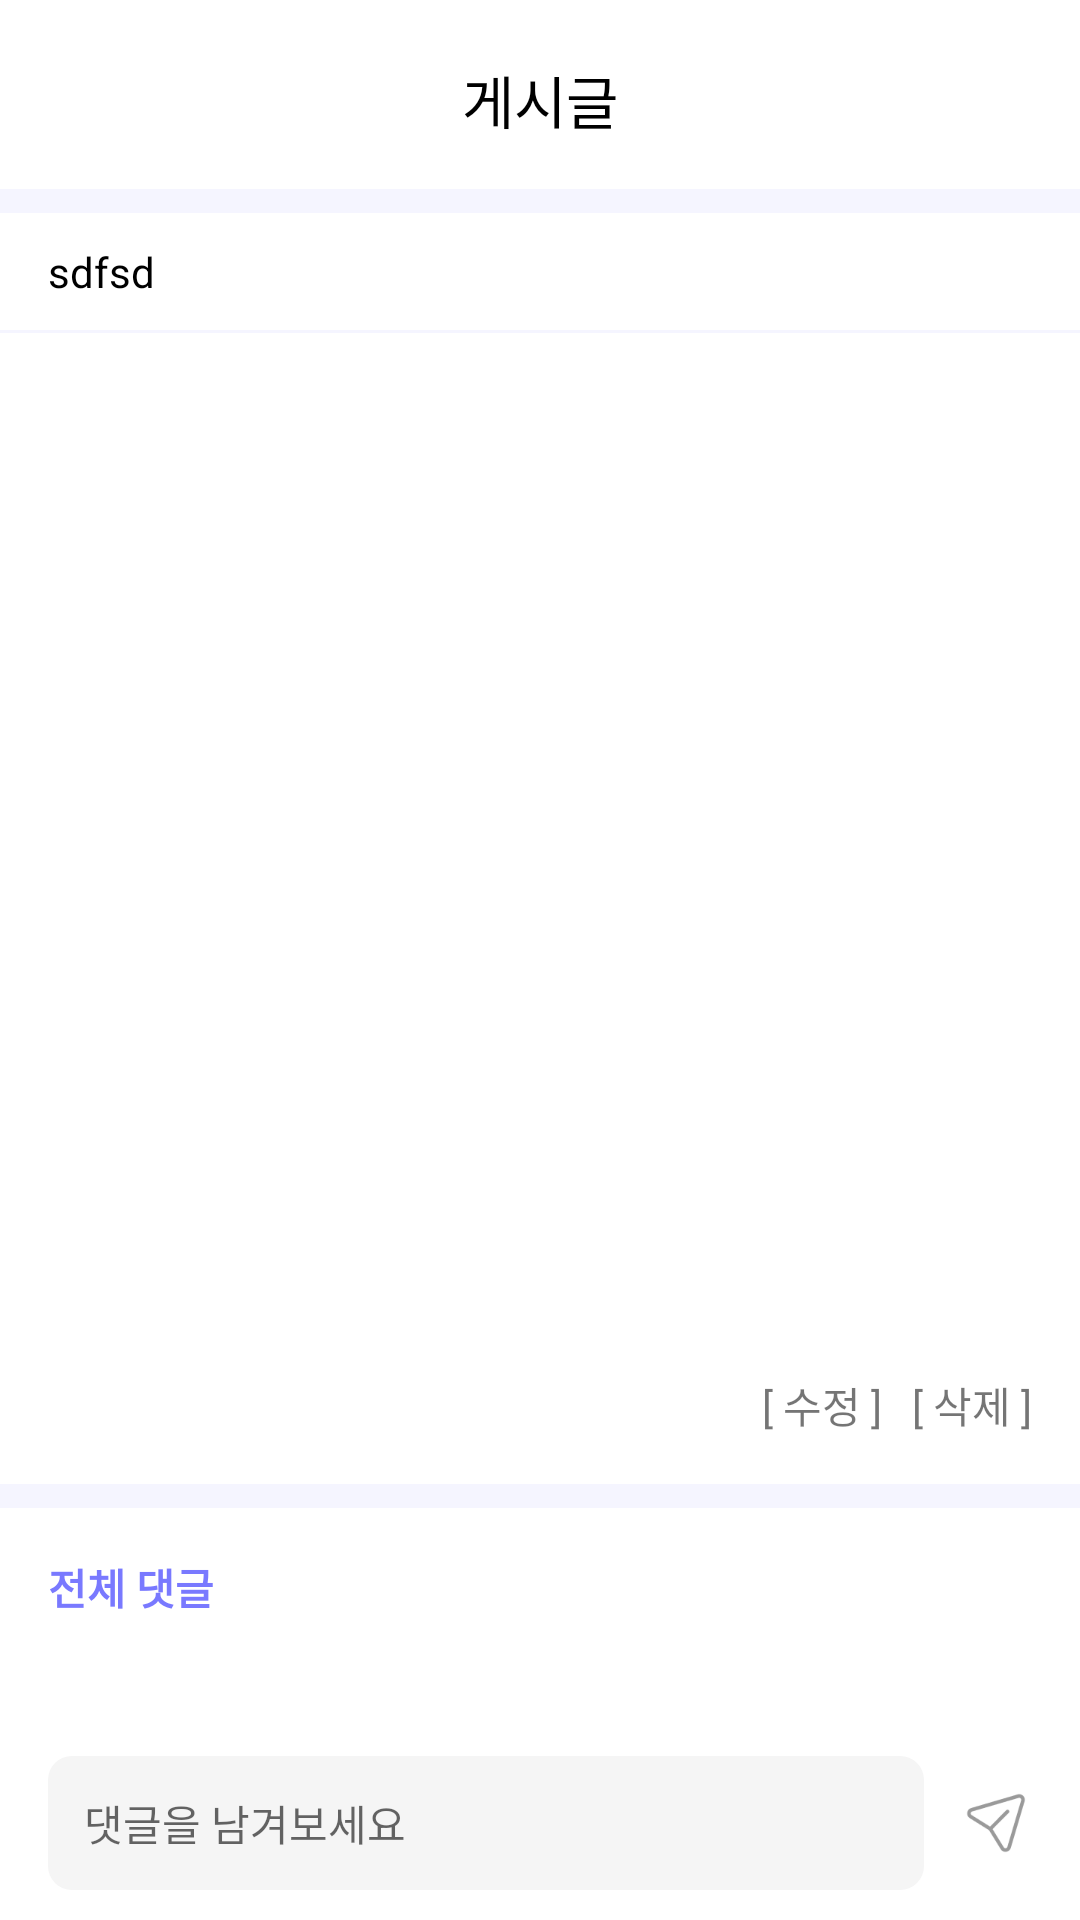

Where to tap for icons on this 1080*1920 app screen, as point (x, y):
send: point (996, 1823)
